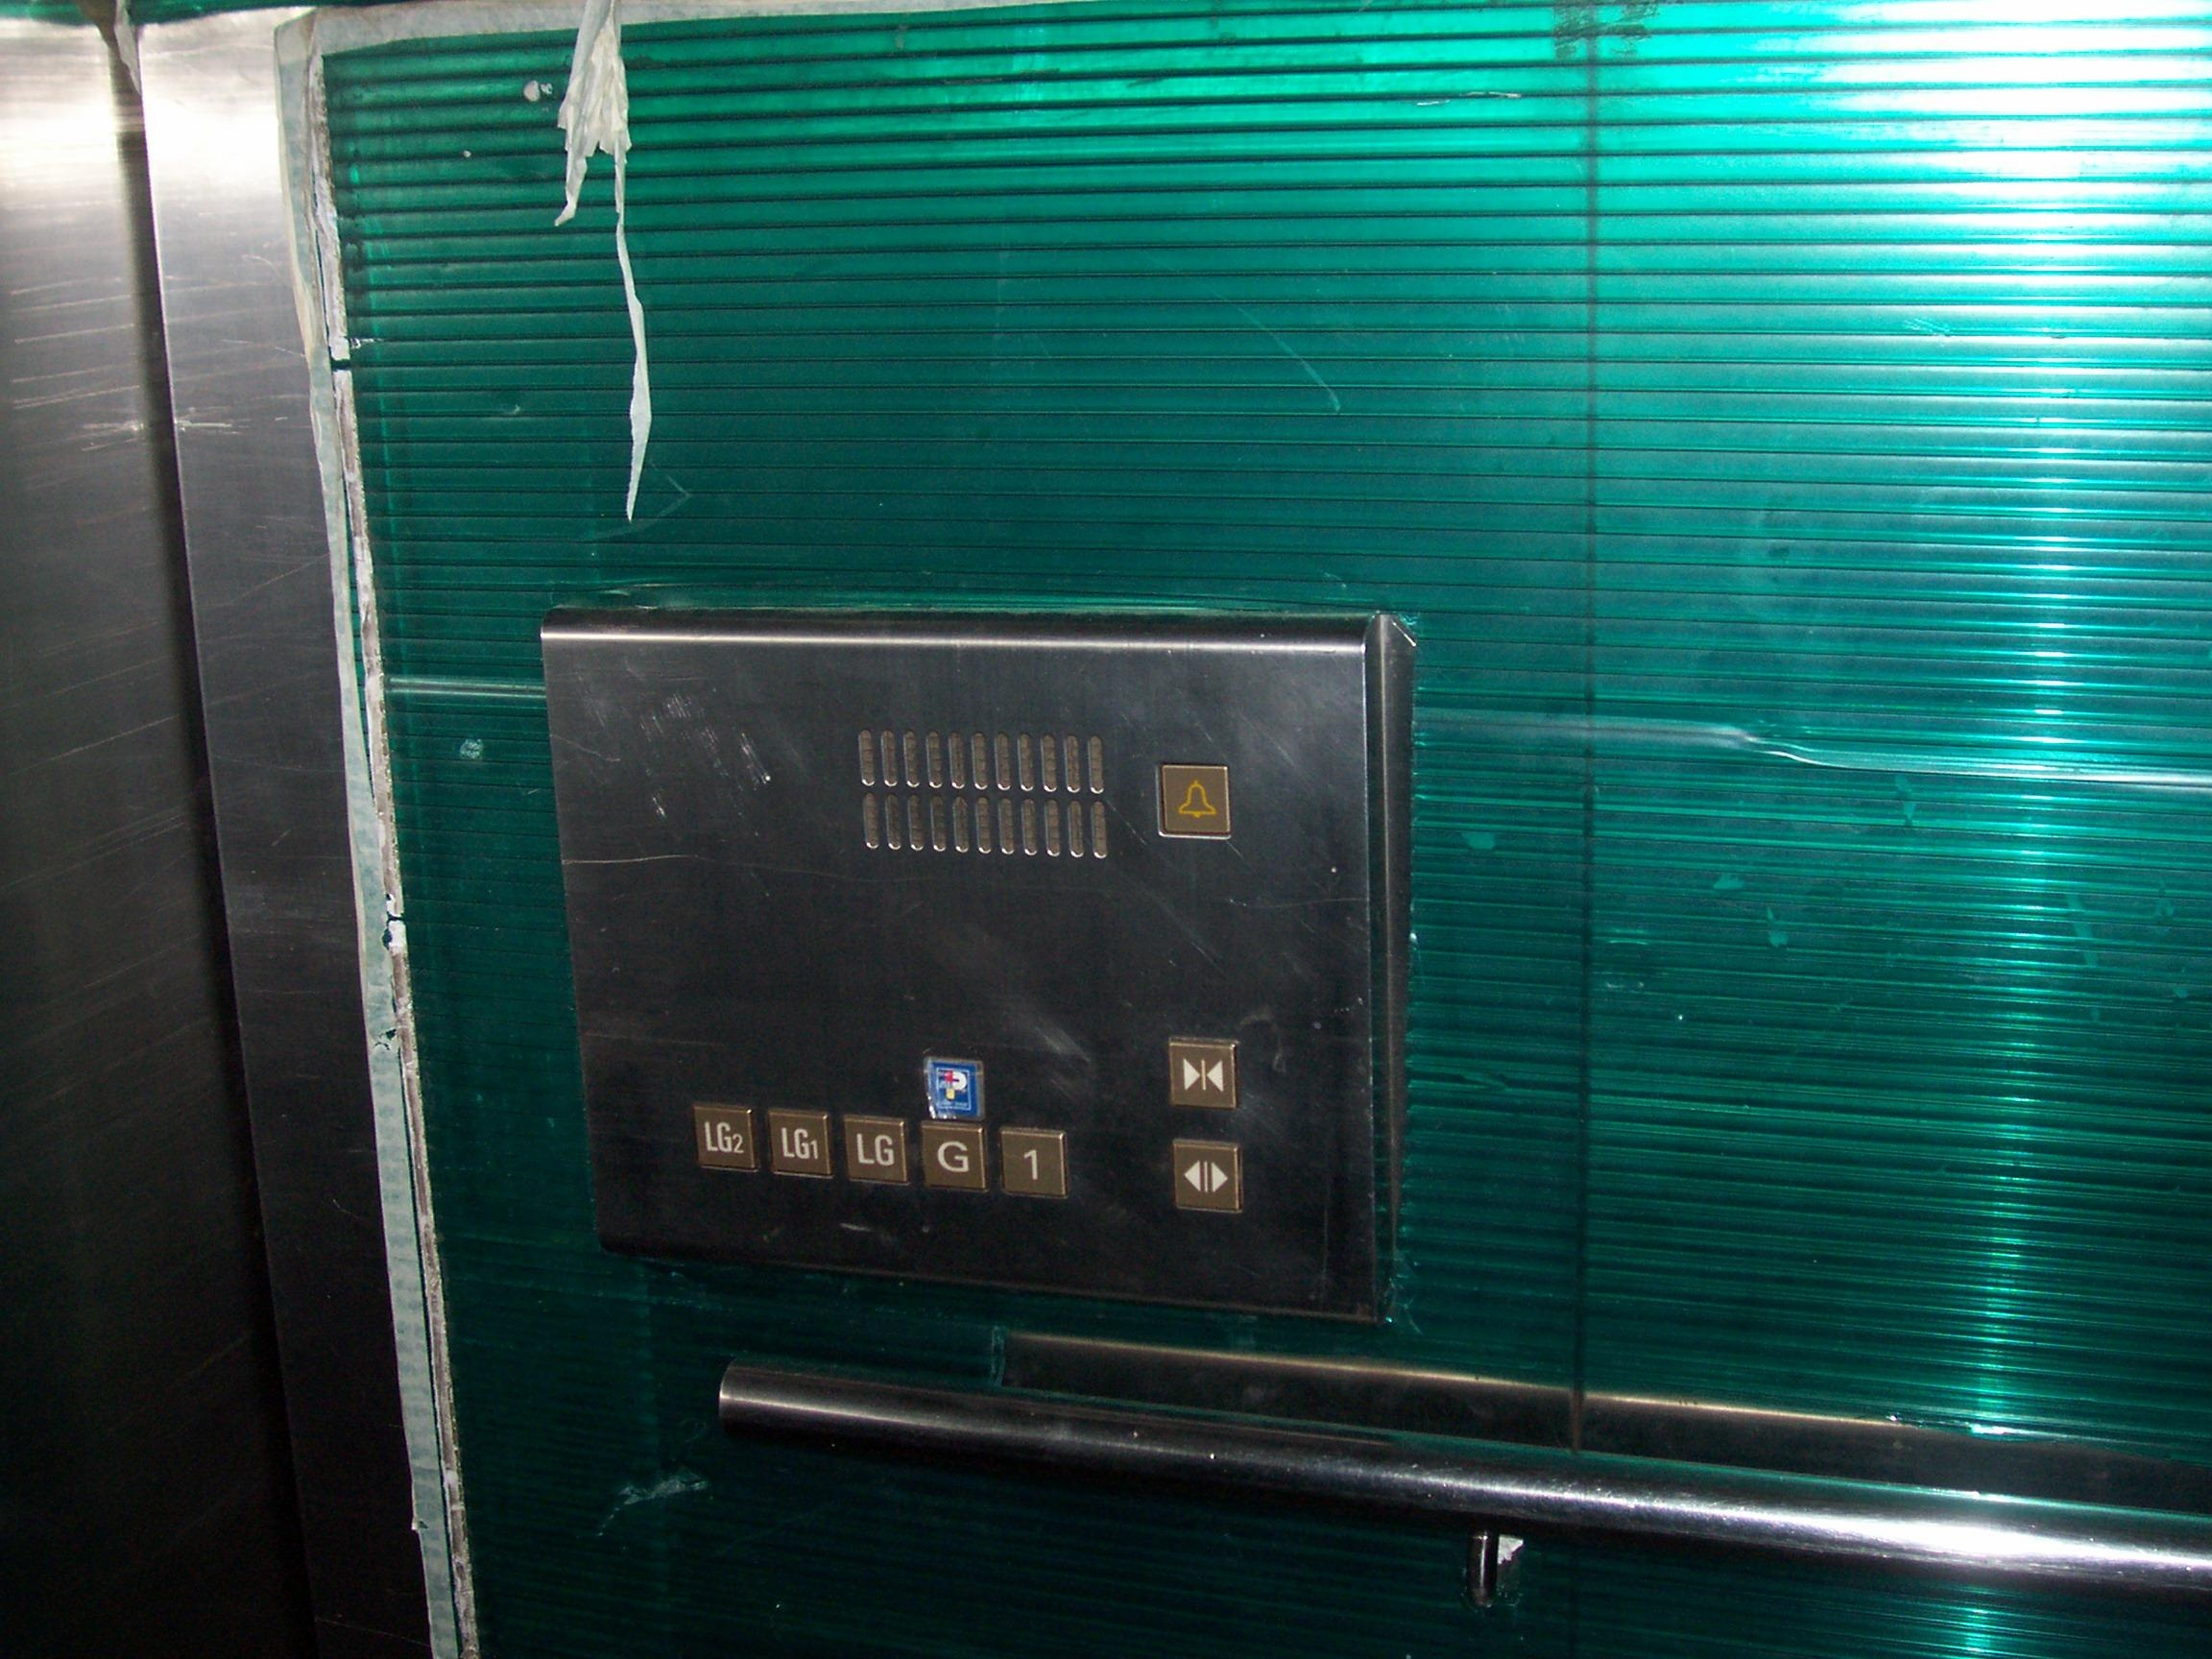1: (995, 1124, 1071, 1201)
G: (913, 1117, 991, 1195)
LG: (838, 1110, 911, 1190)
LG1: (761, 1101, 836, 1183)
LG2: (686, 1100, 763, 1180)
alarm: (1150, 758, 1235, 842)
close: (1162, 1033, 1242, 1117)
open: (1163, 1133, 1247, 1218)
